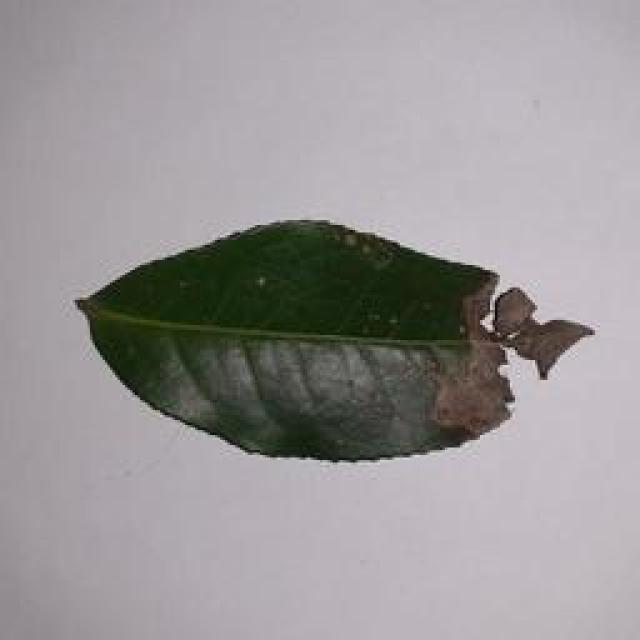Brown Blight: (72, 212, 601, 472)
